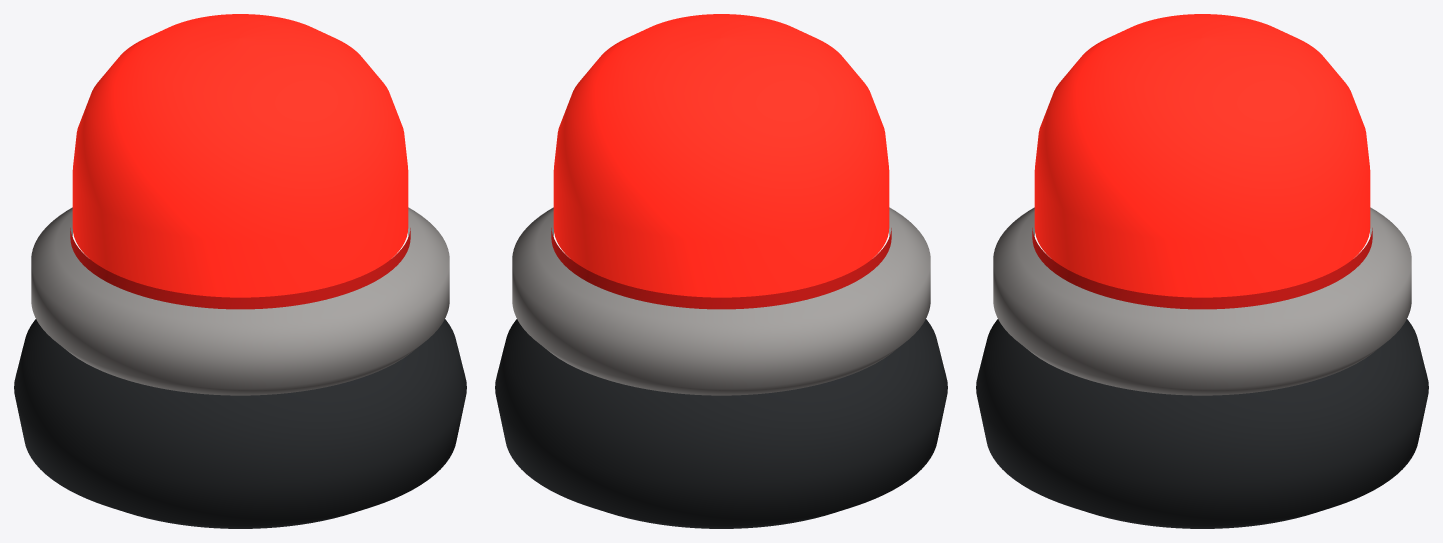
Rendered from BigRedButtonGlowLevel01.glb.
The picture shows the model from 3 angles, left to right: view 1: azimuth 30°, elevation 25°; view 2: azimuth 150°, elevation 25°; view 3: azimuth 270°, elevation 25°; orthographic projection.
Visible parts, largest first — view 1: button, button_base, metal_bezel, cap_side_shadow; view 2: button, button_base, metal_bezel, cap_side_shadow; view 3: button, button_base, metal_bezel, cap_side_shadow.
Boxes of the visible parts, x1=… form: button: x1=72, y1=14, x2=408, y2=297; button_base: x1=14, y1=319, x2=466, y2=528; metal_bezel: x1=31, y1=207, x2=449, y2=395; cap_side_shadow: x1=70, y1=228, x2=410, y2=309; button: x1=553, y1=14, x2=889, y2=297; button_base: x1=495, y1=319, x2=947, y2=528; metal_bezel: x1=512, y1=207, x2=930, y2=395; cap_side_shadow: x1=551, y1=228, x2=891, y2=309; button: x1=1034, y1=14, x2=1370, y2=297; button_base: x1=976, y1=319, x2=1428, y2=528; metal_bezel: x1=993, y1=207, x2=1411, y2=395; cap_side_shadow: x1=1032, y1=228, x2=1372, y2=309.
Bounding box in the file's own units: 0.0185 × 0.0185 × 0.0185.
